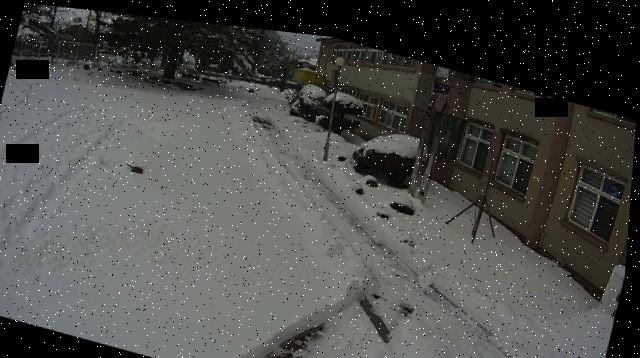fire: (134, 160, 145, 168)
